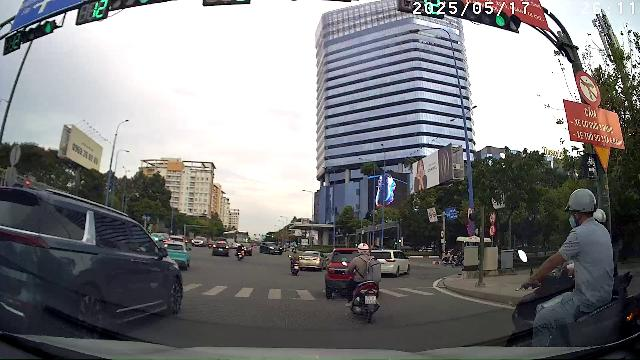137-cam-re-trai-va-re-phai: (576, 70, 601, 106)
